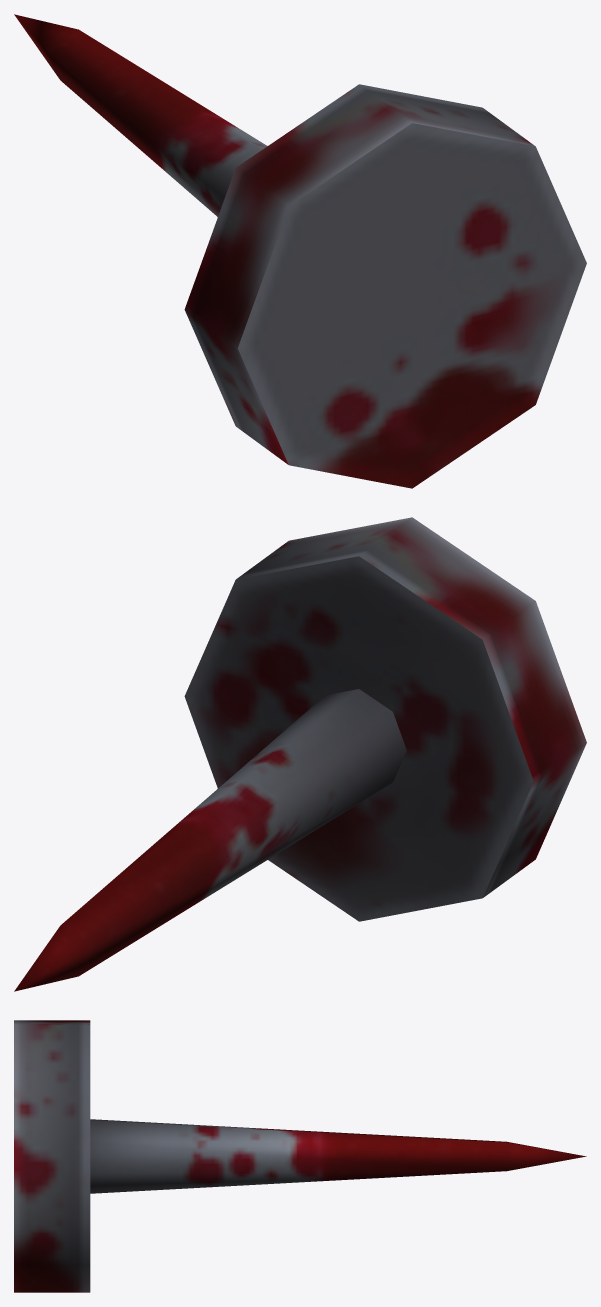
The model's file is TianZhuJiaoTang_01_dingzi_01.FBX.
3 views of the same model, one above another, from view 1: azimuth 30°, elevation 25°; view 2: azimuth 150°, elevation 25°; view 3: azimuth 270°, elevation 25° (orthographic). The views are drawn at different scales.
Visible parts, largest first — view 1: TianZheJiaoTang_01_dingzi_01; view 2: TianZheJiaoTang_01_dingzi_01; view 3: TianZheJiaoTang_01_dingzi_01.
Boxes of the visible parts, box(x1,y1,x2,y2) form: TianZheJiaoTang_01_dingzi_01: box(14, 14, 586, 488); TianZheJiaoTang_01_dingzi_01: box(14, 517, 586, 991); TianZheJiaoTang_01_dingzi_01: box(14, 1020, 586, 1292).
Size of the model in its own units: 45.72 by 45.72 by 90.29.
